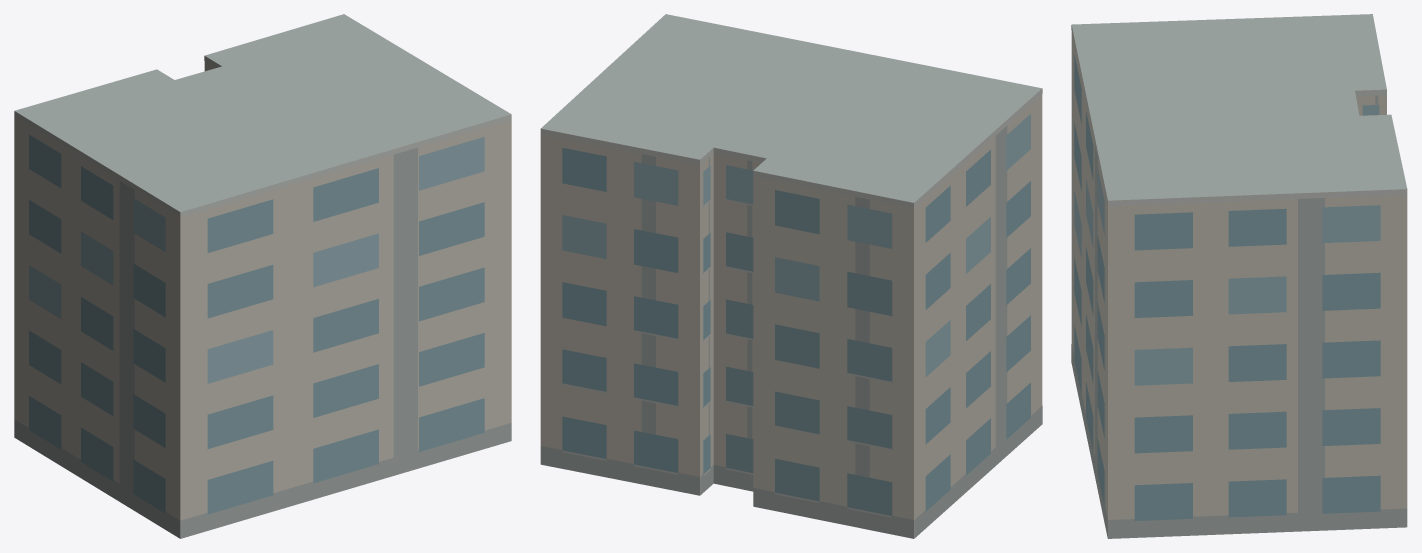
The model's file is survey-upis-32924063.glb.
3 renders of one model, left to right at view 1: azimuth 30°, elevation 25°; view 2: azimuth 150°, elevation 25°; view 3: azimuth 270°, elevation 25°, orthographic. The views are drawn at different scales.
Parts seen in each view (by area): view 1: survey-upis-32924063.tmp; view 2: survey-upis-32924063.tmp; view 3: survey-upis-32924063.tmp.
Boxes of the visible parts, box(x1,y1,x2,y2) form: survey-upis-32924063.tmp: box(14, 14, 511, 538); survey-upis-32924063.tmp: box(540, 14, 1042, 538); survey-upis-32924063.tmp: box(1071, 14, 1407, 538).
Size of the model in its own units: 17.29 by 14.6 by 13.15.
